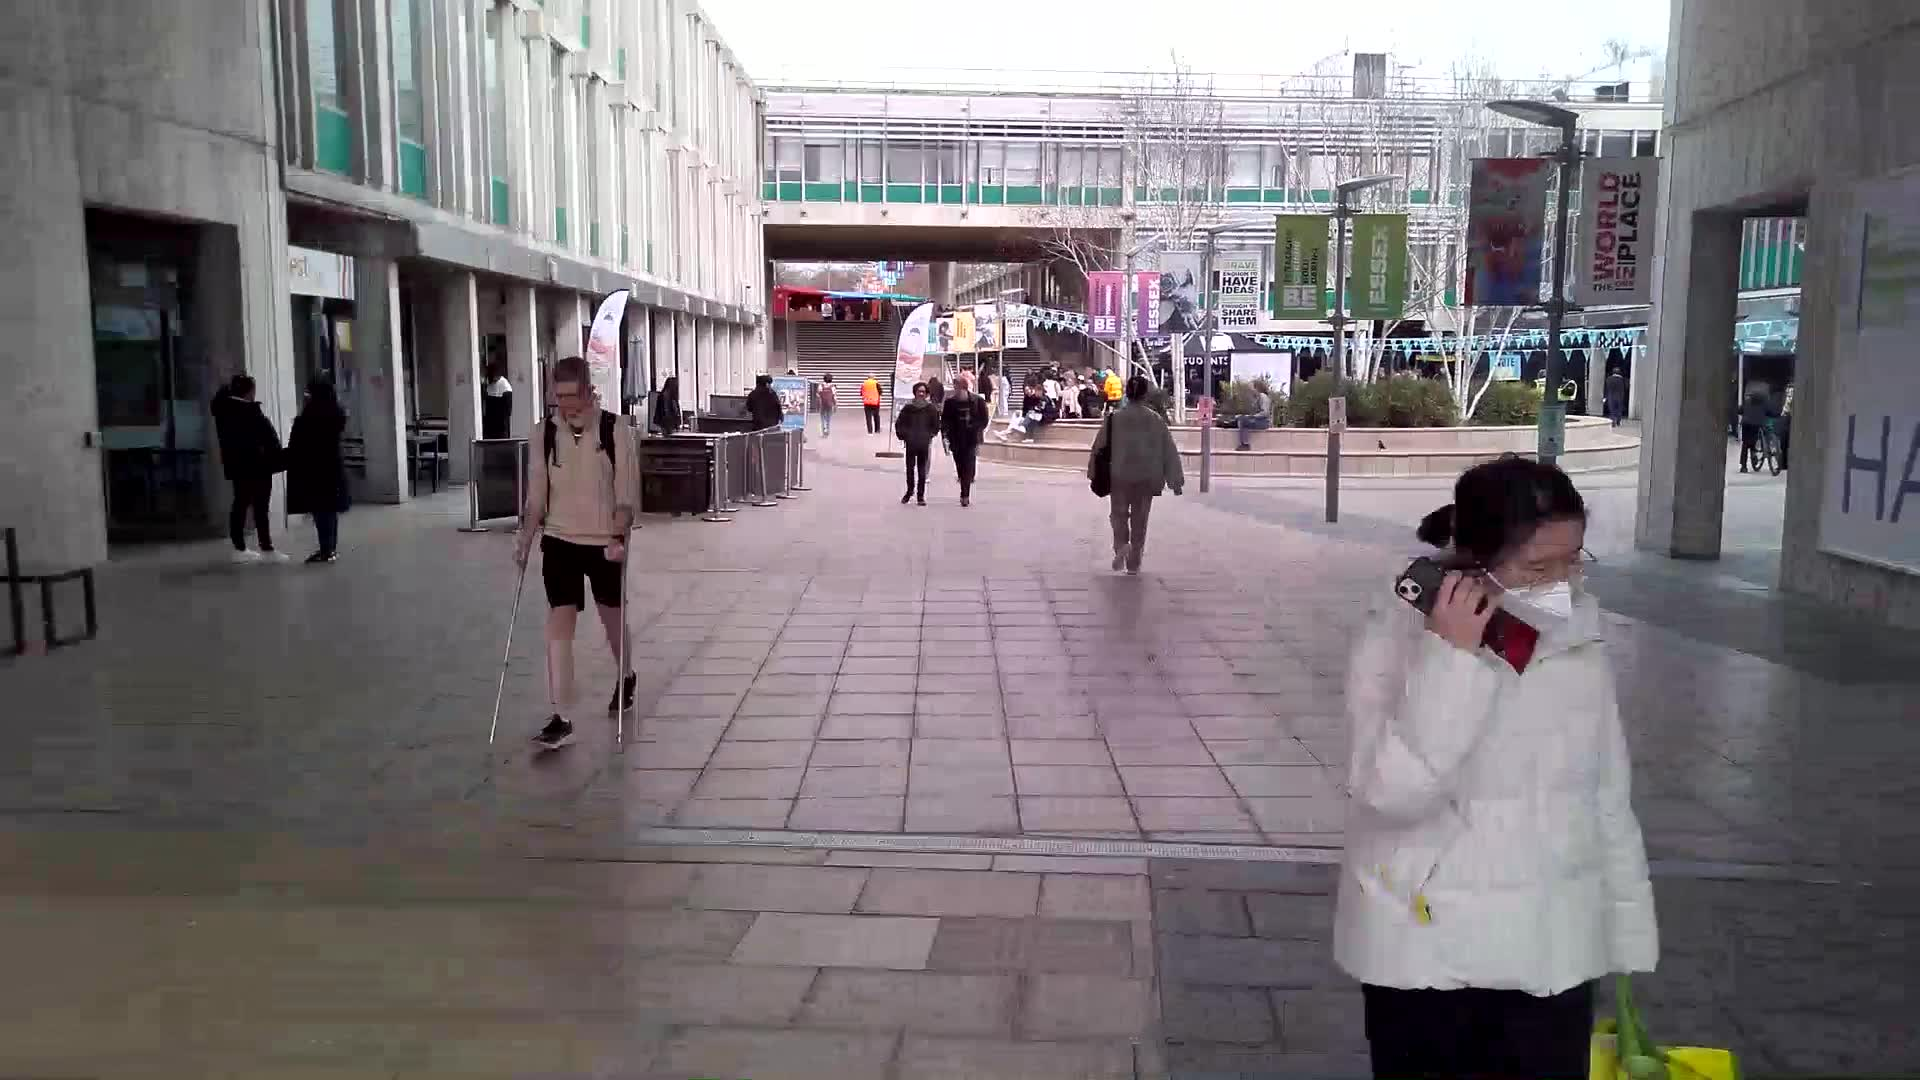Backpack: (945, 374, 990, 505), (1089, 439, 1112, 499)
Person: (1342, 462, 1624, 1080), (524, 355, 646, 741), (284, 378, 354, 574), (218, 374, 285, 565), (1116, 369, 1173, 574), (892, 378, 936, 503), (474, 359, 520, 442), (1001, 378, 1053, 439), (1232, 379, 1276, 450), (749, 373, 784, 438), (652, 374, 688, 437), (813, 370, 841, 433), (860, 370, 884, 434)
